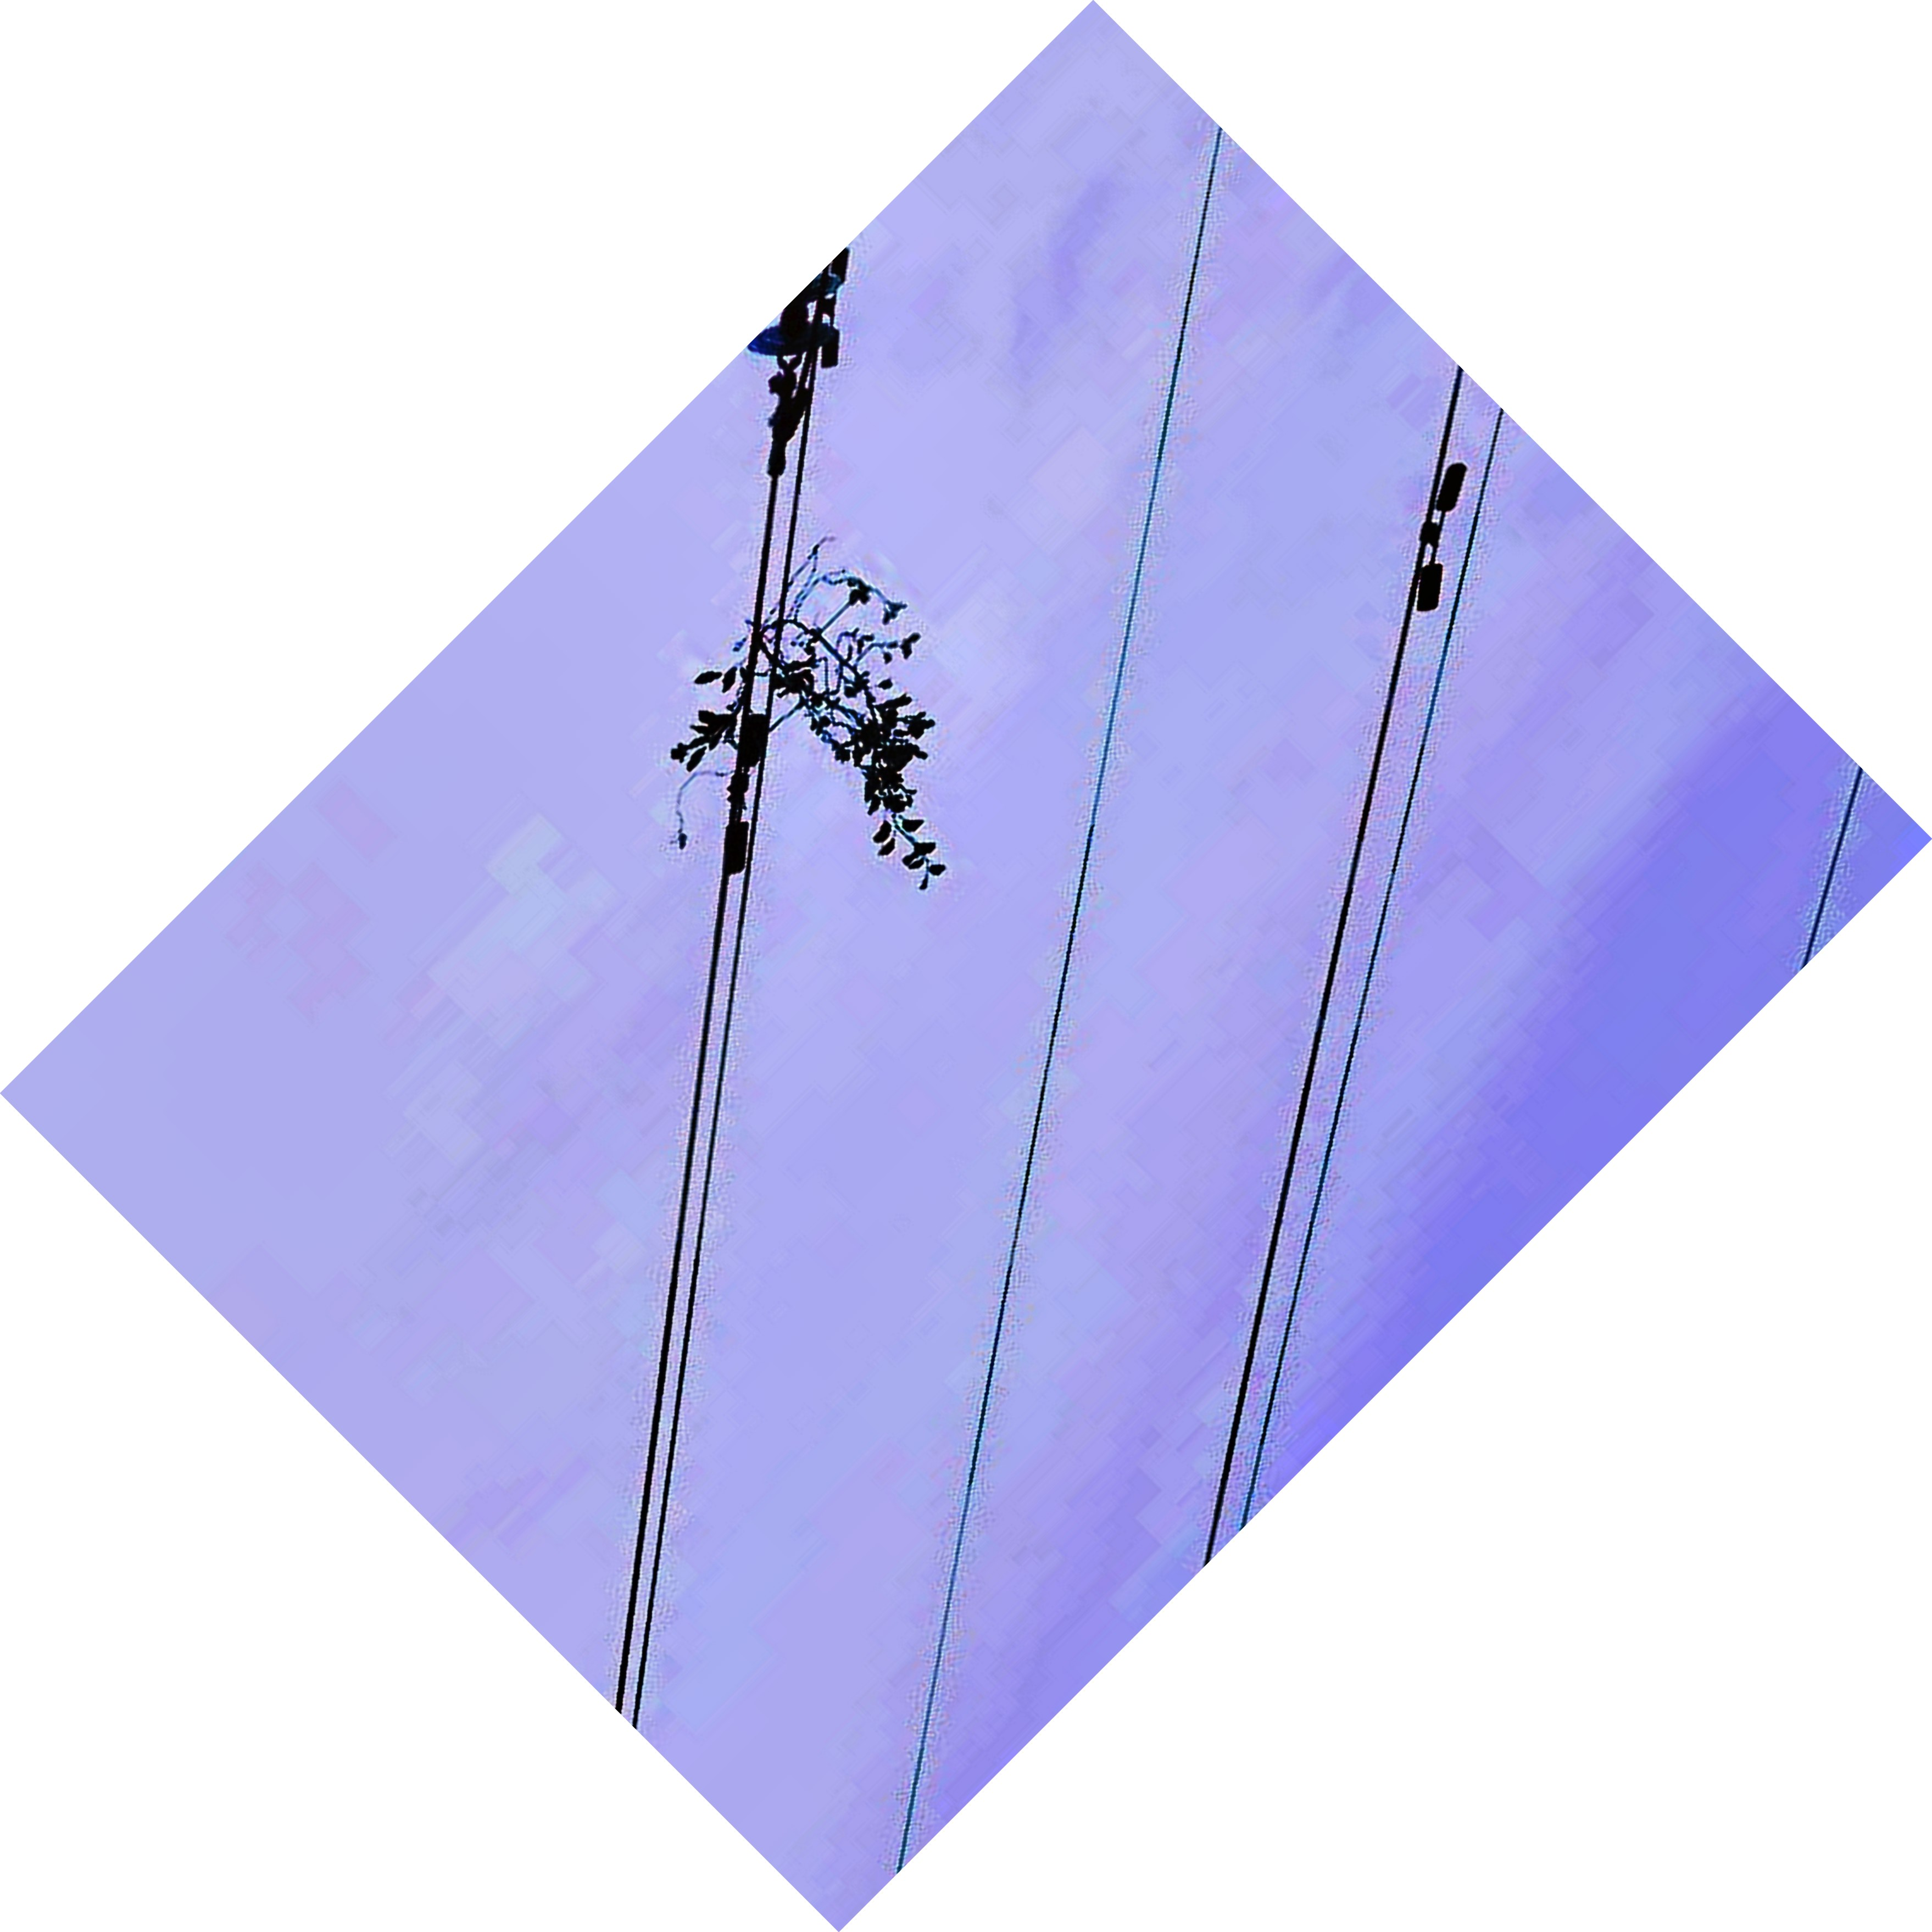wire foreign body: (635, 531, 991, 893)
